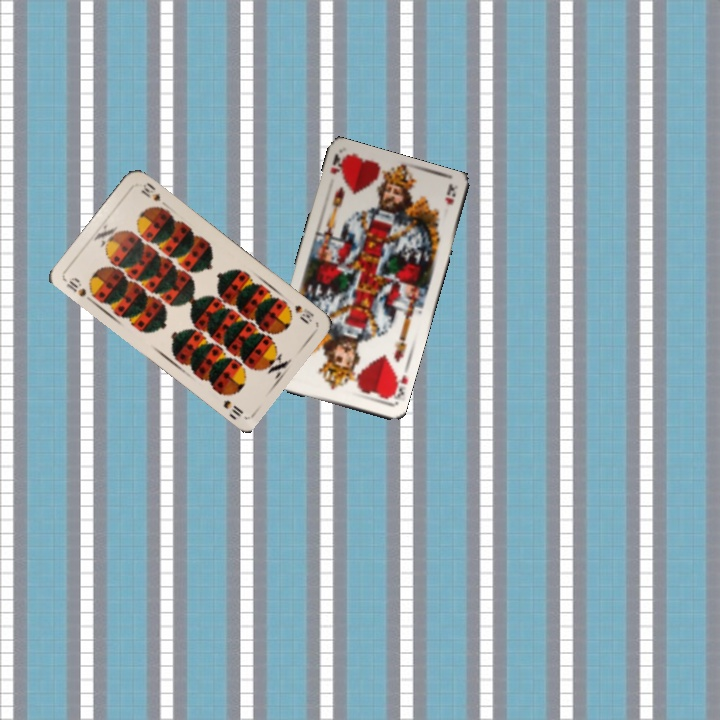HK: (384, 367, 410, 407), (326, 151, 348, 178)
S10: (62, 273, 98, 305), (290, 301, 317, 326)
